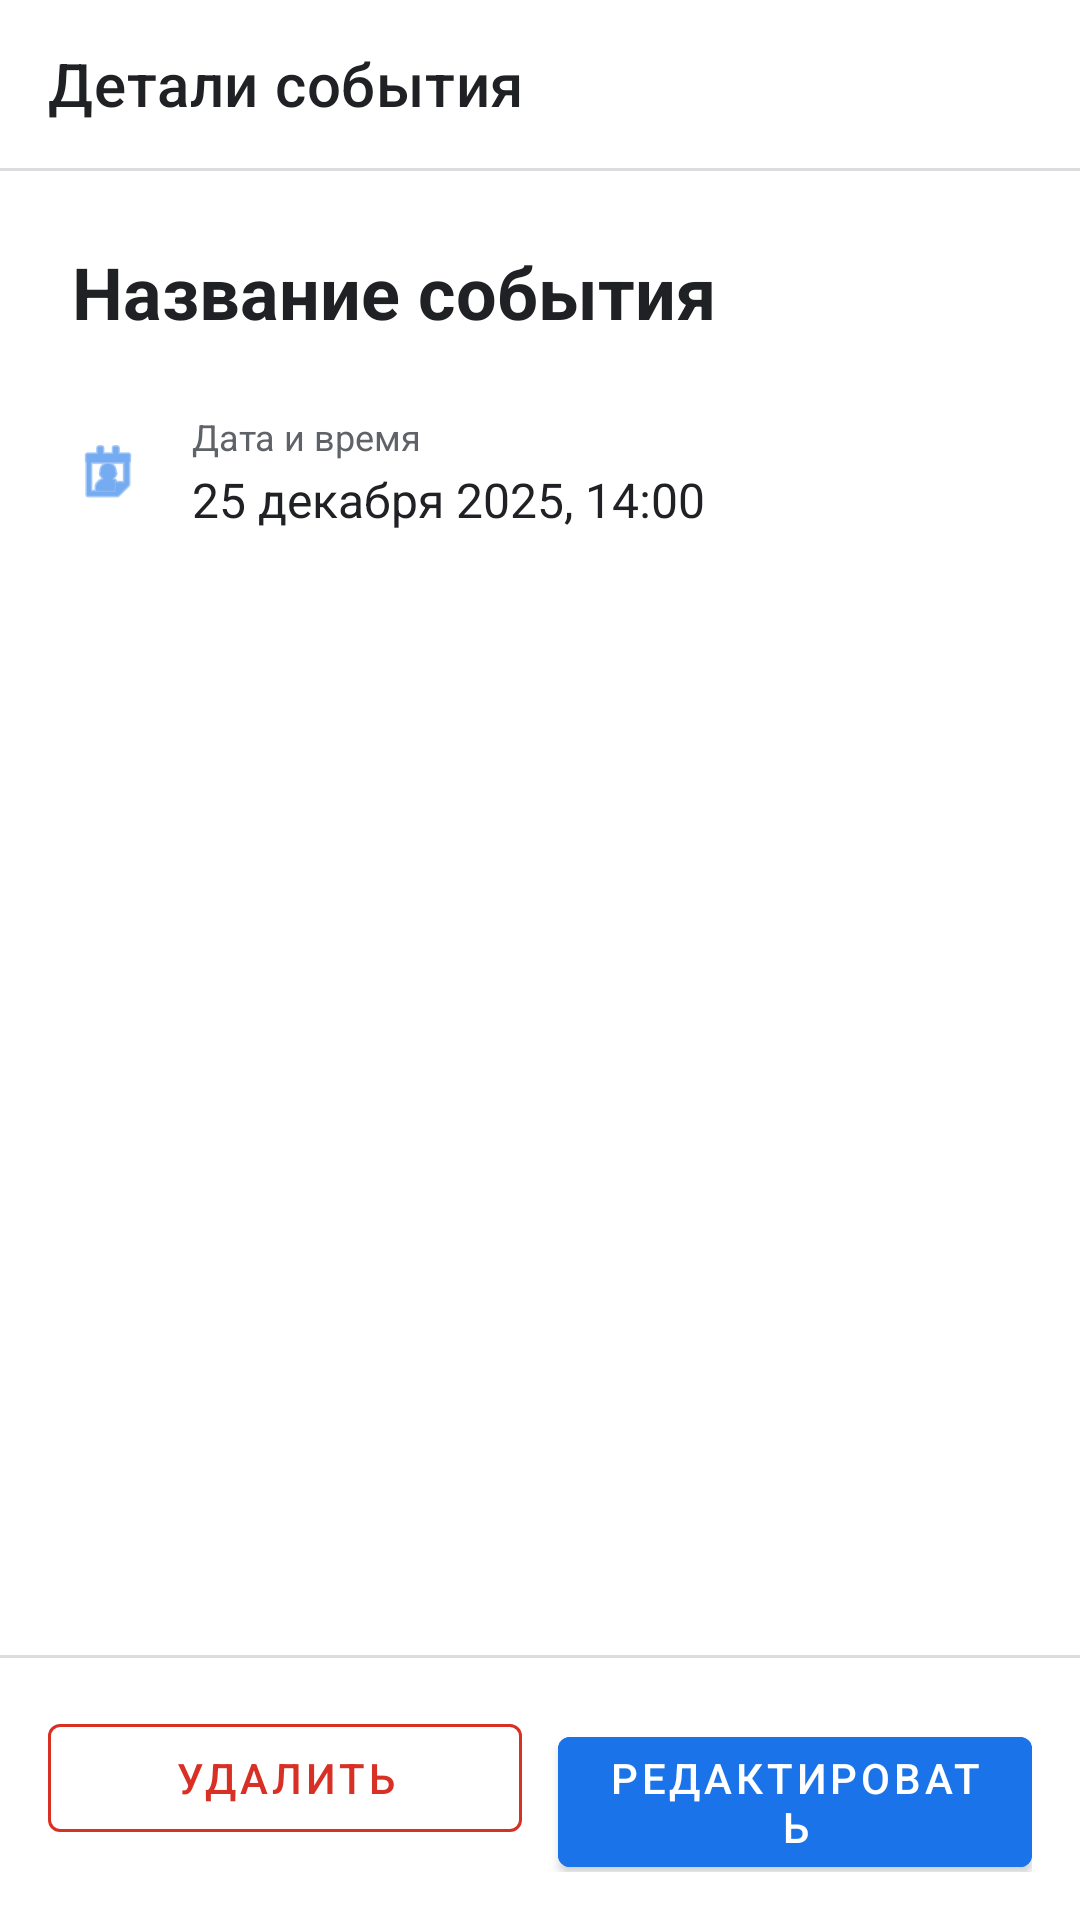

Icon bounding boxes for this 1080x1920 phone screenshot, format (x1, y1, x2, y2):
calendar: (85, 445, 131, 498)
